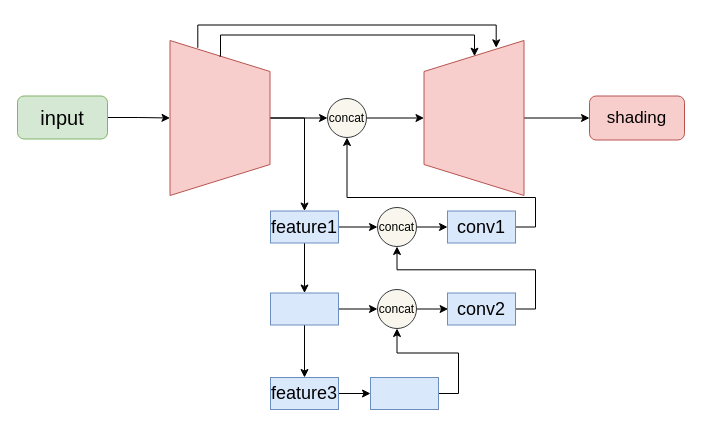
Image size: 702x427. Some labels were removed from this diagram. The shapes that lost their labels are listed below. From the top down, each one's box as (x1, y1, x2, y2) in pixels, then its label:
(169, 40, 270, 196): shading encoder
(423, 40, 524, 196): shading decoder
(270, 292, 338, 325): feature2
(370, 376, 438, 410): conv3
